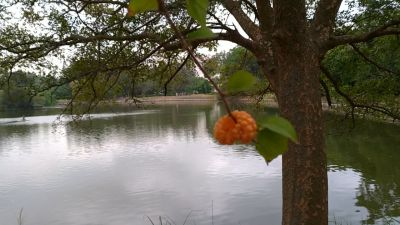eggs: (214, 109, 258, 146)
